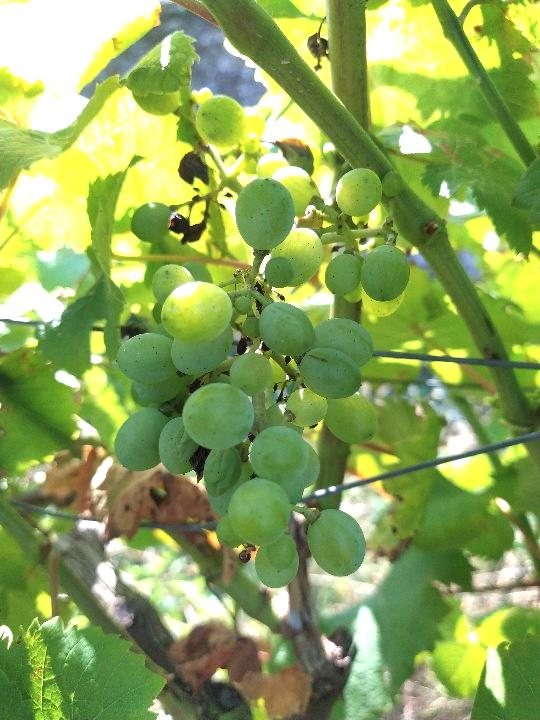grape: (110, 94, 414, 592)
